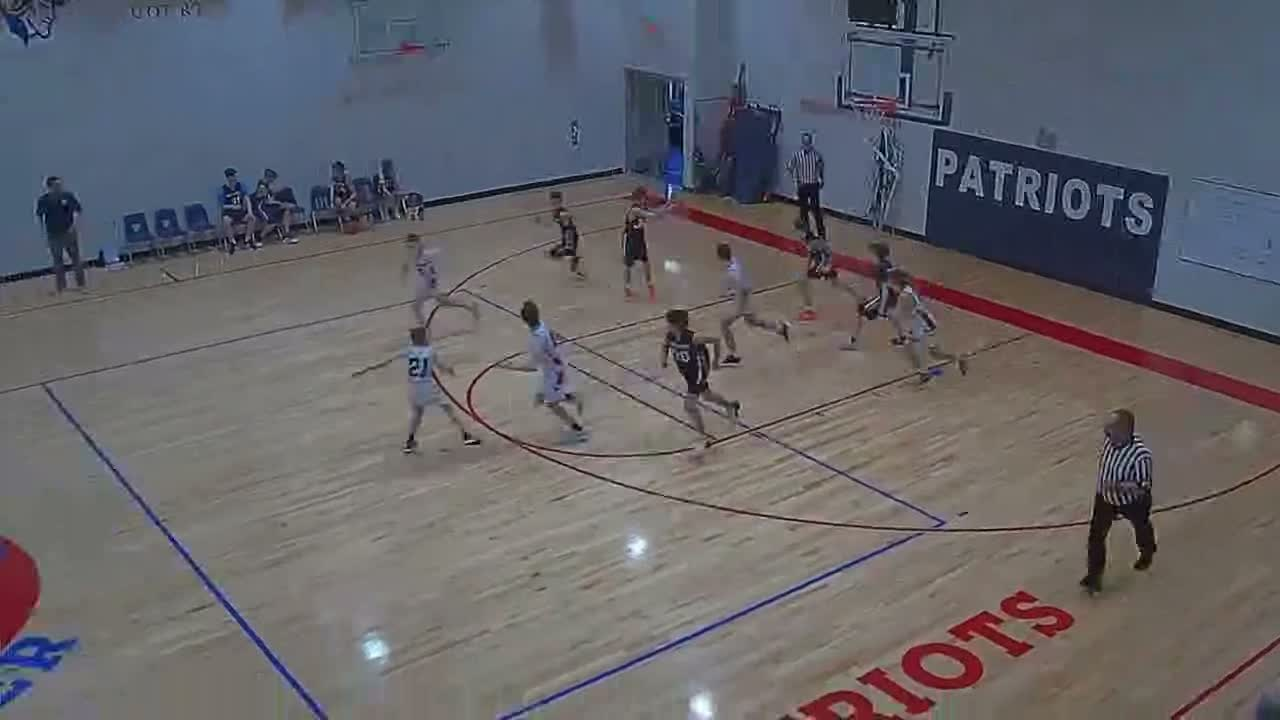ball: (944, 582, 1153, 720)
